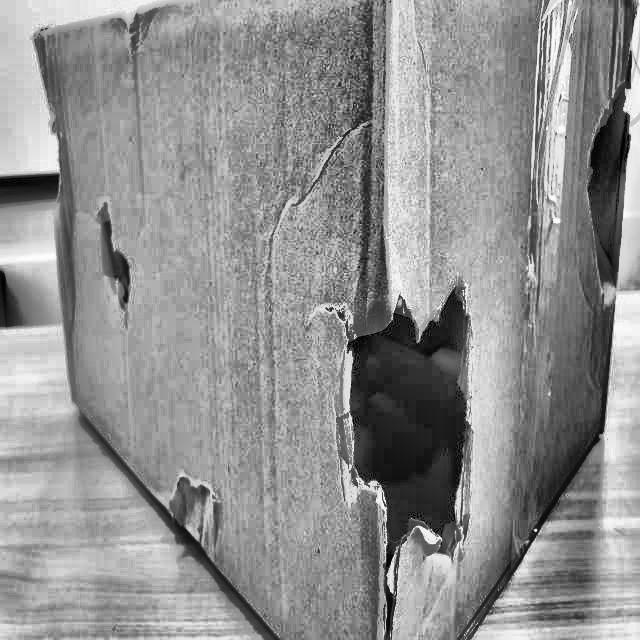box: (26, 0, 639, 639)
hole: (302, 246, 478, 638), (578, 46, 634, 303), (94, 196, 135, 332)
